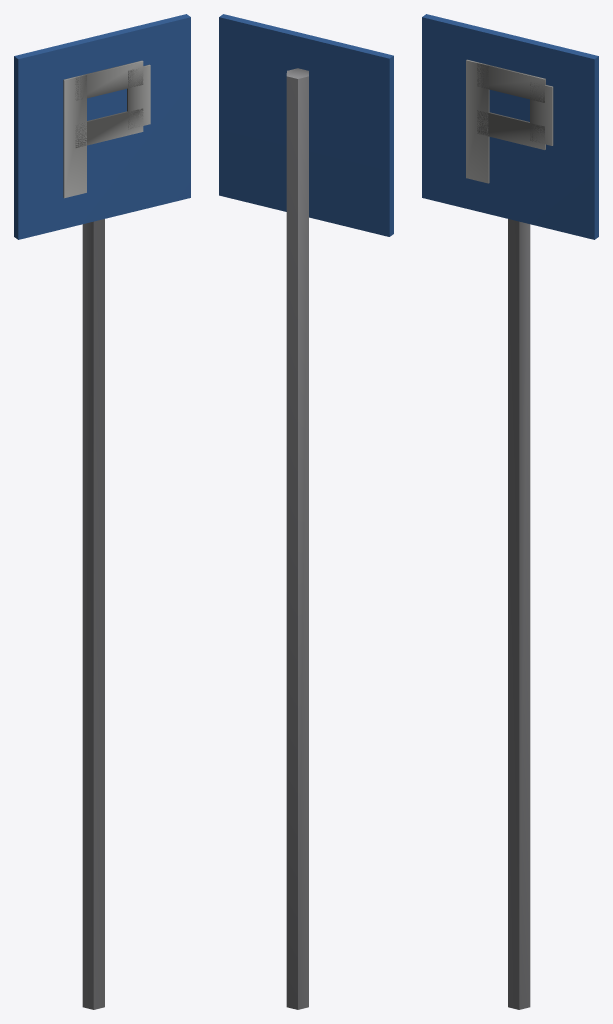
The model's file is parkschild.glb.
3 views of the same model, side by side, from view 1: azimuth 30°, elevation 25°; view 2: azimuth 150°, elevation 25°; view 3: azimuth 330°, elevation 25° (orthographic).
Parts seen in each view (by area): view 1: lack; view 2: lack; view 3: lack.
Part boxes in pixels (x1,y1,x2,y2): lack: (14,14,190,1009); lack: (219,14,393,1009); lack: (422,14,598,1009).
Bounding box in the file's own units: 0.4599 × 2.48 × 0.0805.
